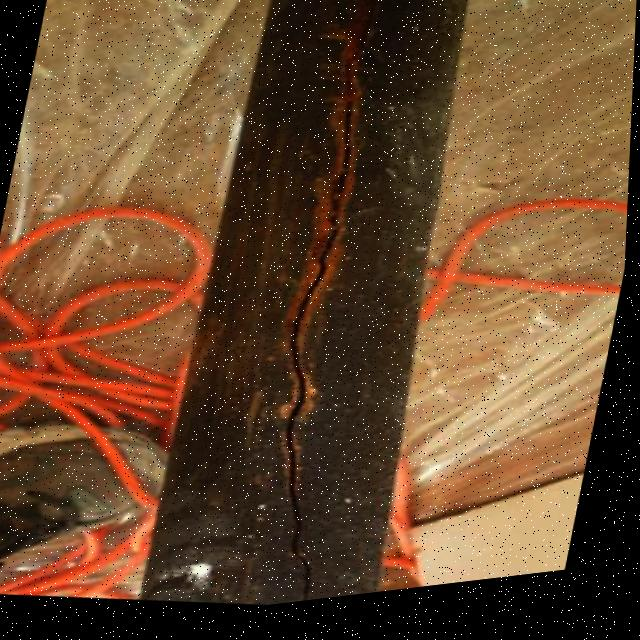crack: (288, 1, 387, 608)
